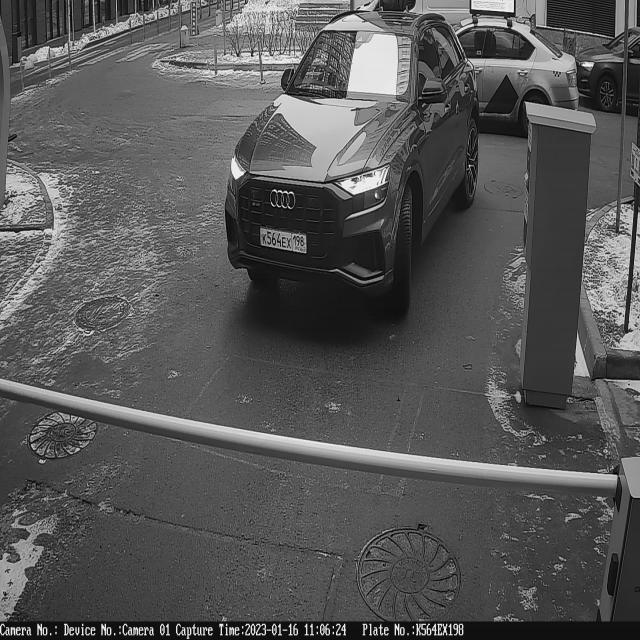car-plate-numbers: (258, 224, 309, 261)
